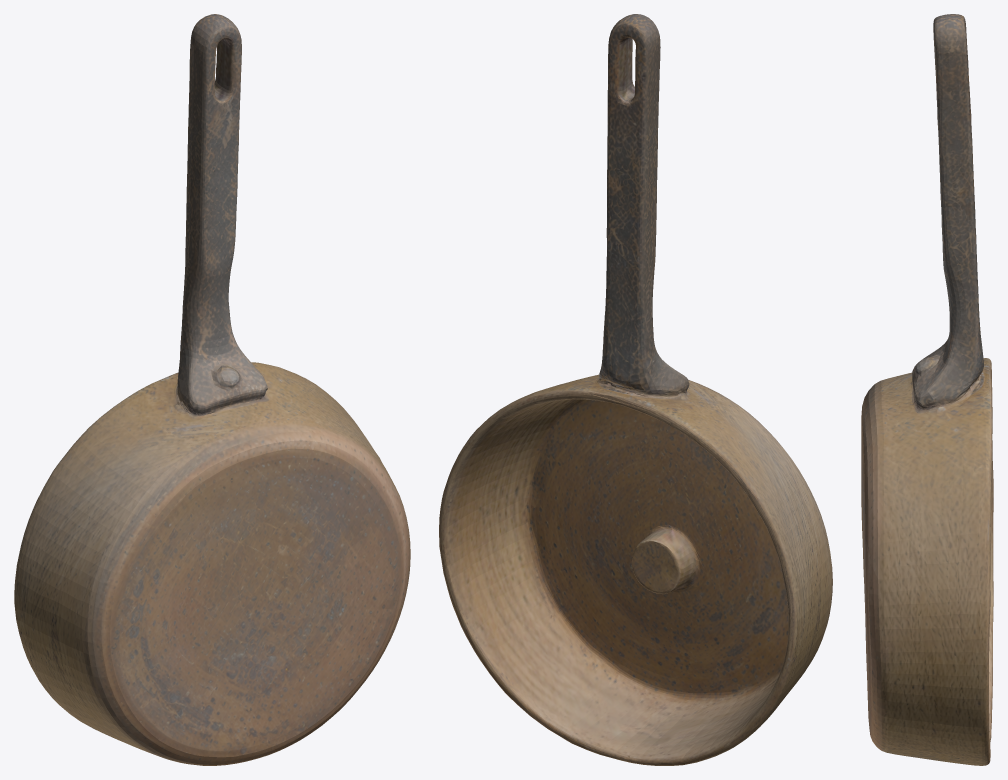
Rendered from Saucepan.fbx.
The picture shows the model from 3 angles, left to right: view 1: azimuth 30°, elevation 25°; view 2: azimuth 150°, elevation 25°; view 3: azimuth 270°, elevation 25°; orthographic projection.
Parts seen in each view (by area): view 1: Saucepan_Low; view 2: Saucepan_Low; view 3: Saucepan_Low.
Part boxes in pixels (bbox=[...]): Saucepan_Low: bbox=[14, 14, 410, 765]; Saucepan_Low: bbox=[439, 14, 832, 765]; Saucepan_Low: bbox=[861, 14, 993, 765].
Bounding box in the file's own units: 0.5168 × 0.9995 × 0.1646.
